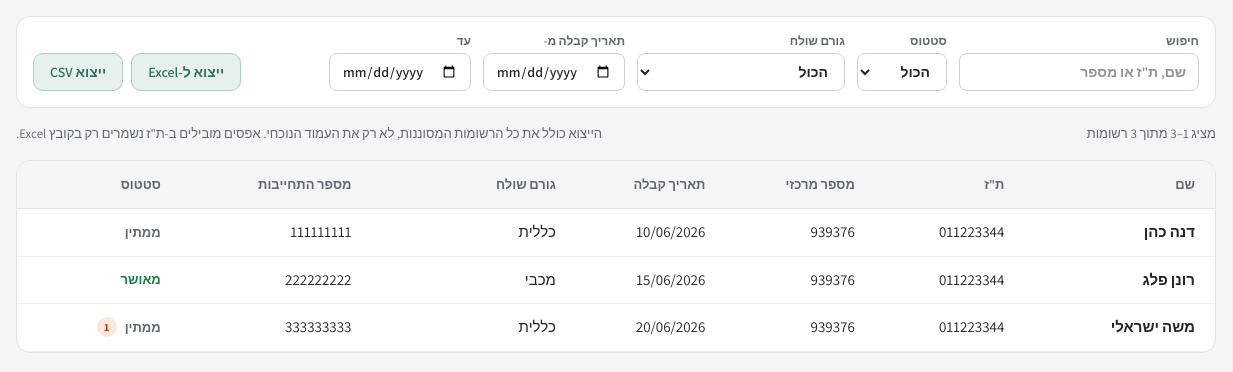
Test: RecordsView: filters › lists the senders the server knows and filters by one
Expected: the message does not show "טוען", [1087,124,1216,144]
Select "כללית" in the dropdown labelled "גורם שולח" at [741, 72], box [637,53,845,91]
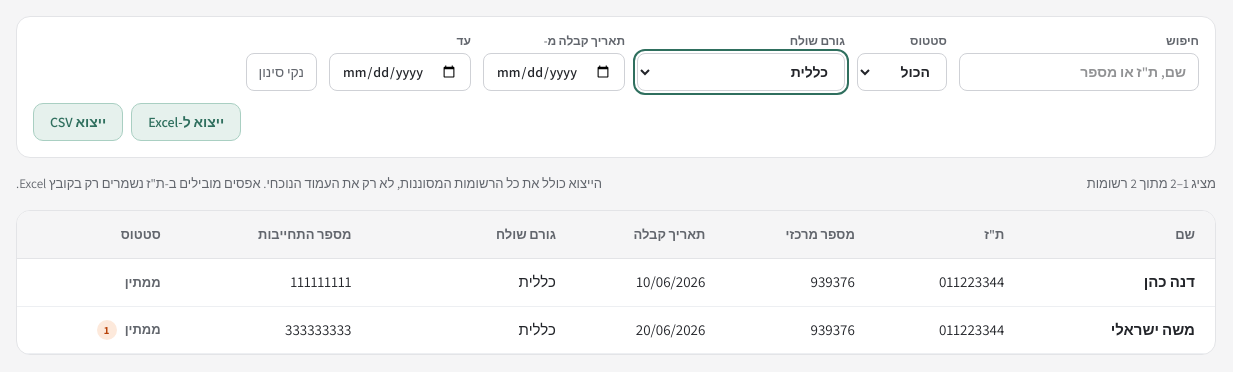
Result: the message shows "מתוך 2 רשומות" at [1087,175,1216,192]
